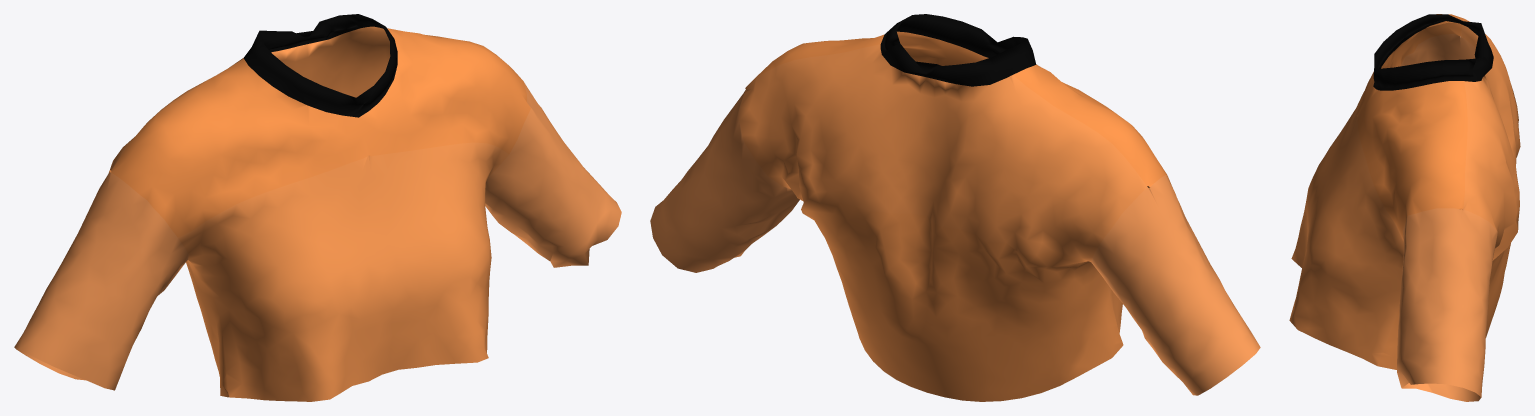
Rendered from soccer-women.glb.
The picture shows the model from 3 angles, left to right: view 1: azimuth 30°, elevation 25°; view 2: azimuth 150°, elevation 25°; view 3: azimuth 270°, elevation 25°; orthographic projection. The views are drawn at different scales.
Parts seen in each view (by area): view 1: Cloth; view 2: Cloth; view 3: Cloth.
Part boxes in pixels (<box>): Cloth: <box>14,14,621,401</box>; Cloth: <box>650,14,1260,401</box>; Cloth: <box>1289,14,1520,401</box>.
Bounding box in the file's own units: 0.6539 × 0.3593 × 0.2457.
Materials: 7 (7 with a texture image).
